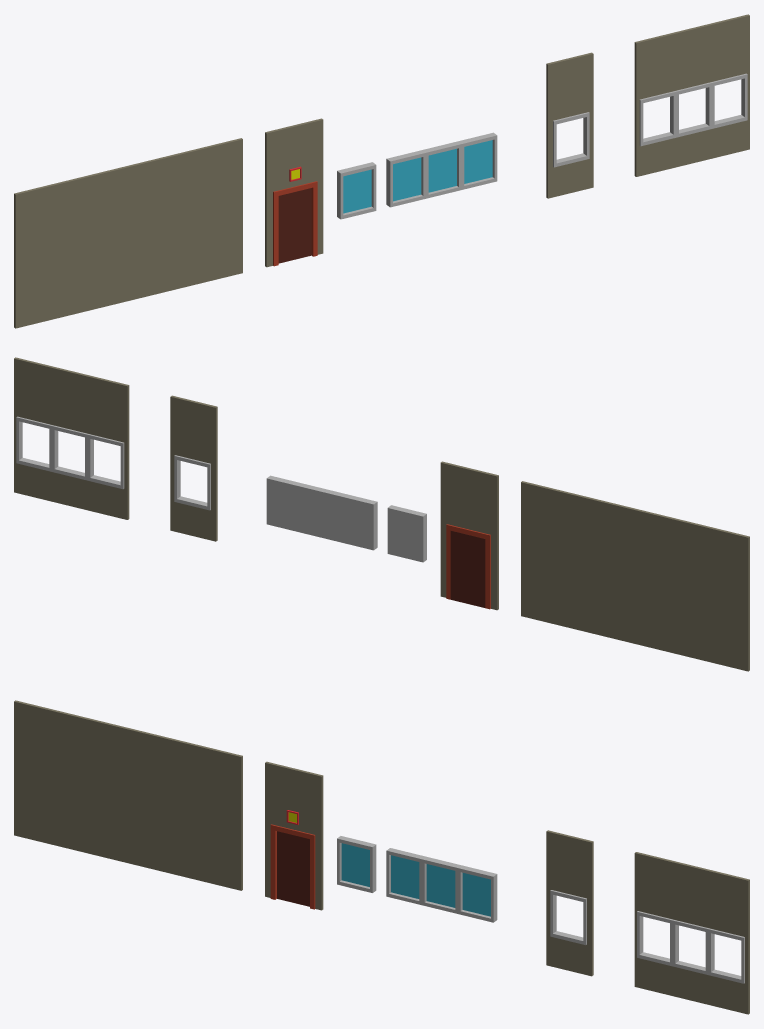
Rendered from ObjetosPared.fbx.
The picture shows the model from 3 angles, top to bottom: view 1: azimuth 30°, elevation 25°; view 2: azimuth 150°, elevation 25°; view 3: azimuth 330°, elevation 25°; orthographic projection.
Parts seen in each view (by area): view 1: ParedNormal, ParedNoVeLarg, MarcoPuerta, ParedNoVe, TrueVentLarge, Puerta, TrueVentana; view 2: ParedNormal, ParedNoVeLarg, MarcoPuerta, ParedNoVe, TrueVentLarge, Puerta, TrueVentana; view 3: ParedNormal, ParedNoVeLarg, MarcoPuerta, ParedNoVe, TrueVentLarge, Puerta, TrueVentana.
Part boxes in pixels (x1,y1,x2,y2): ParedNormal: (14,138,242,328); ParedNoVeLarg: (634,14,749,176); MarcoPuerta: (265,118,323,267); ParedNoVe: (546,52,593,198); TrueVentLarge: (386,132,497,207); Puerta: (278,188,311,263); TrueVentana: (337,162,376,219); ParedNormal: (521,481,749,671); ParedNoVeLarg: (14,357,129,519); MarcoPuerta: (440,461,498,610); ParedNoVe: (170,395,217,541); TrueVentLarge: (266,475,377,550); Puerta: (450,530,485,607); TrueVentana: (387,505,426,562); ParedNormal: (14,700,242,890); ParedNoVeLarg: (634,852,749,1014); MarcoPuerta: (265,761,323,910); ParedNoVe: (546,830,593,976); TrueVentLarge: (386,848,497,922); Puerta: (277,831,309,906); TrueVentana: (337,836,376,892).
Size of the model in its own units: 5166 by 900 by 46.4.
